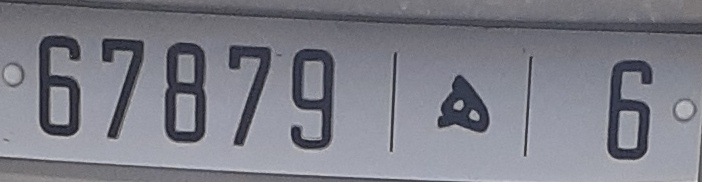6: (603, 53, 654, 167), (37, 29, 83, 139)
7: (96, 33, 146, 144), (225, 39, 273, 150)
8: (162, 38, 209, 144)
9: (291, 43, 335, 156)
h: (431, 69, 493, 140)
